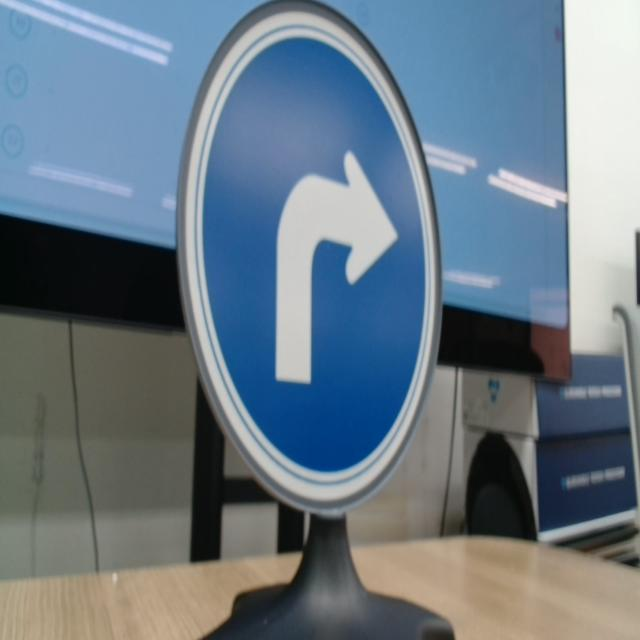right_dierection: (173, 0, 446, 524)
